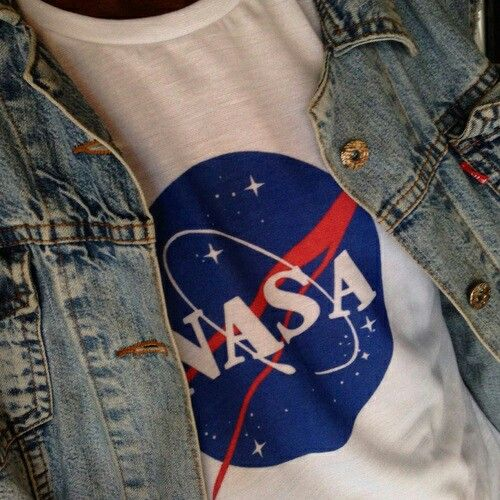NASA: (150, 135, 394, 499)
